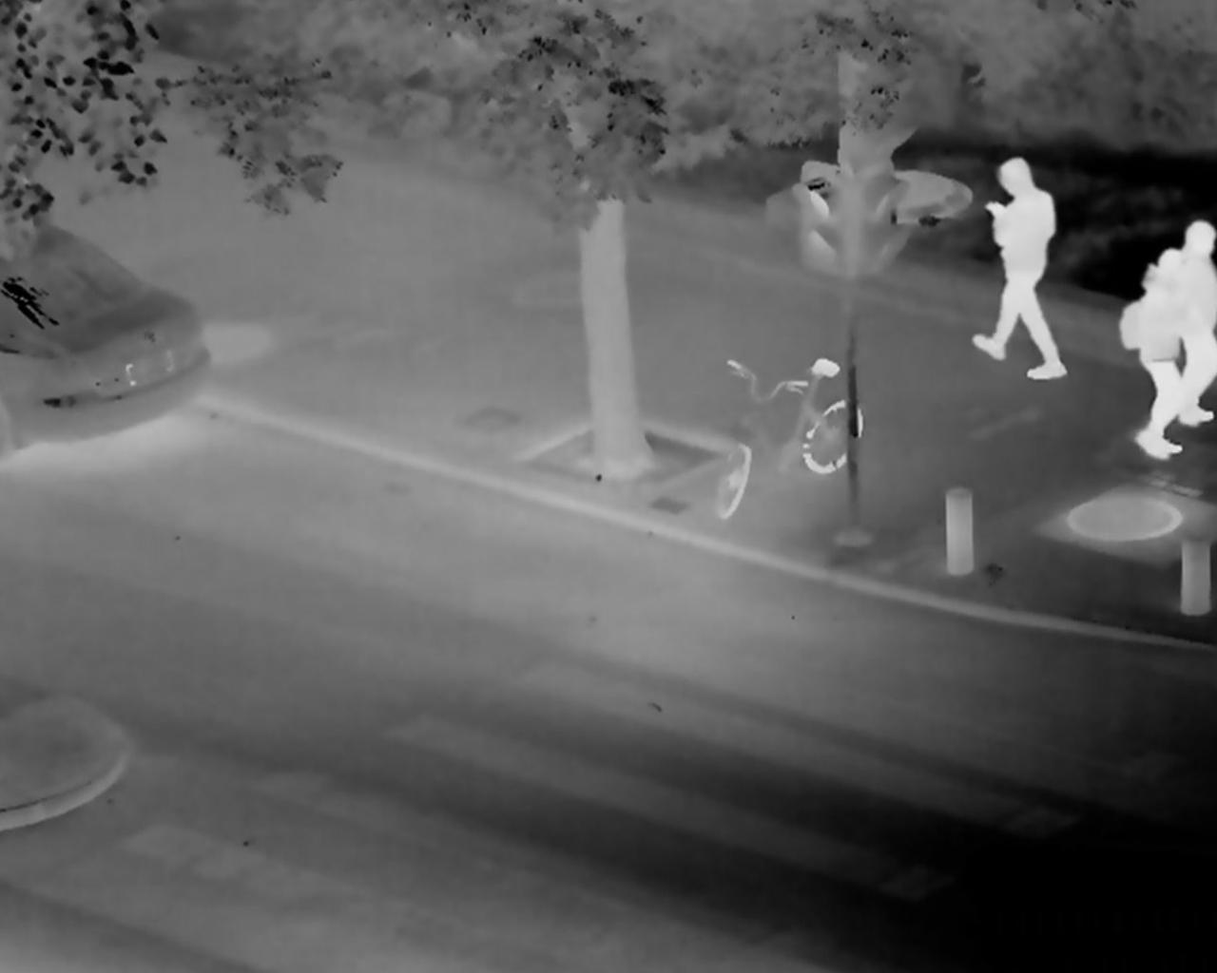person: (979, 159, 1071, 379), (1120, 247, 1181, 462), (1169, 219, 1214, 429)
